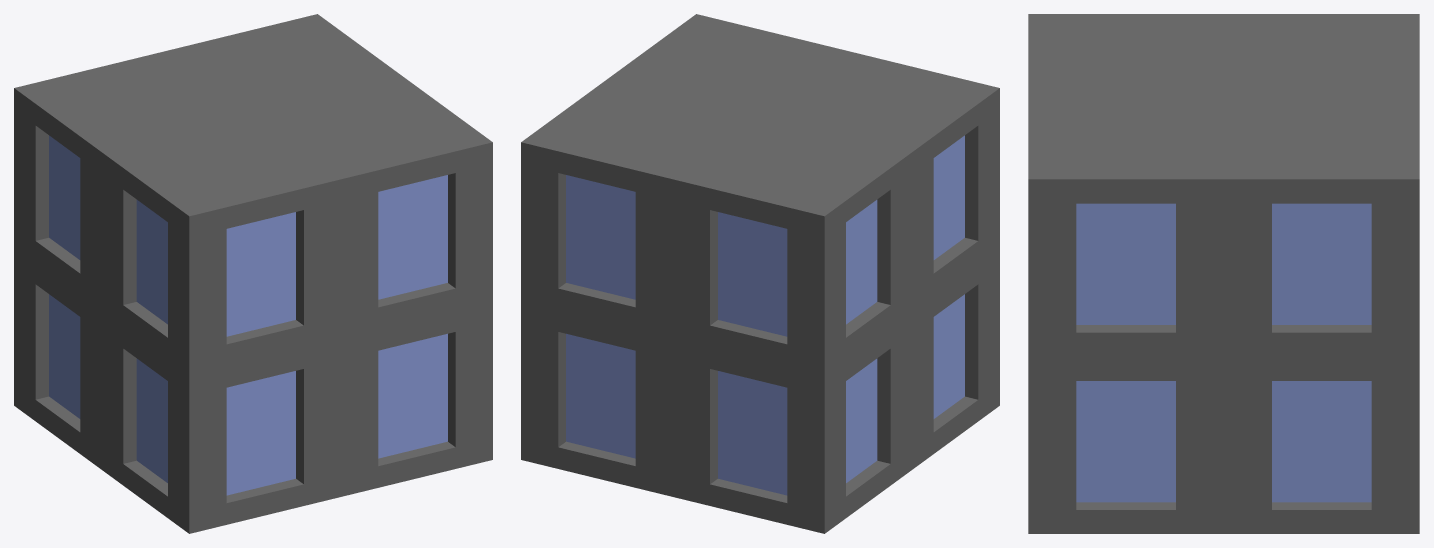
The model's file is basic-block.glb.
The picture shows the model from 3 angles, left to right: view 1: azimuth 30°, elevation 25°; view 2: azimuth 150°, elevation 25°; view 3: azimuth 270°, elevation 25°; orthographic projection. The views are drawn at different scales.
Parts seen in each view (by area): view 1: Cube; view 2: Cube; view 3: Cube.
Boxes of the visible parts, box(x1,y1,x2,y2) form: Cube: box(14, 14, 492, 533); Cube: box(521, 14, 999, 533); Cube: box(1028, 14, 1419, 533).
Size of the model in its own units: 2 by 2 by 2.
